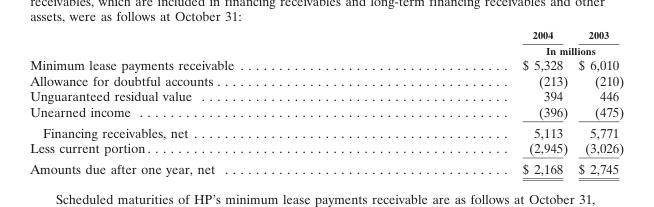table: (29, 28, 623, 176)
table column: (29, 28, 377, 176), (377, 28, 572, 176), (572, 28, 623, 176)
table column header: (29, 28, 623, 56)
table row: (29, 157, 623, 176), (29, 103, 623, 121), (29, 121, 623, 139), (29, 139, 623, 157), (29, 56, 623, 72), (29, 72, 623, 88), (29, 88, 623, 103), (29, 28, 623, 42), (29, 42, 623, 56)
table spanning cell: (377, 42, 623, 56)
